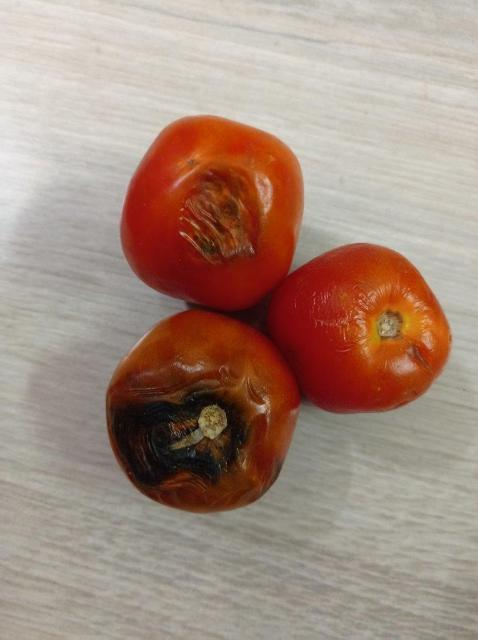defect: (100, 298, 306, 516), (119, 112, 308, 314)
